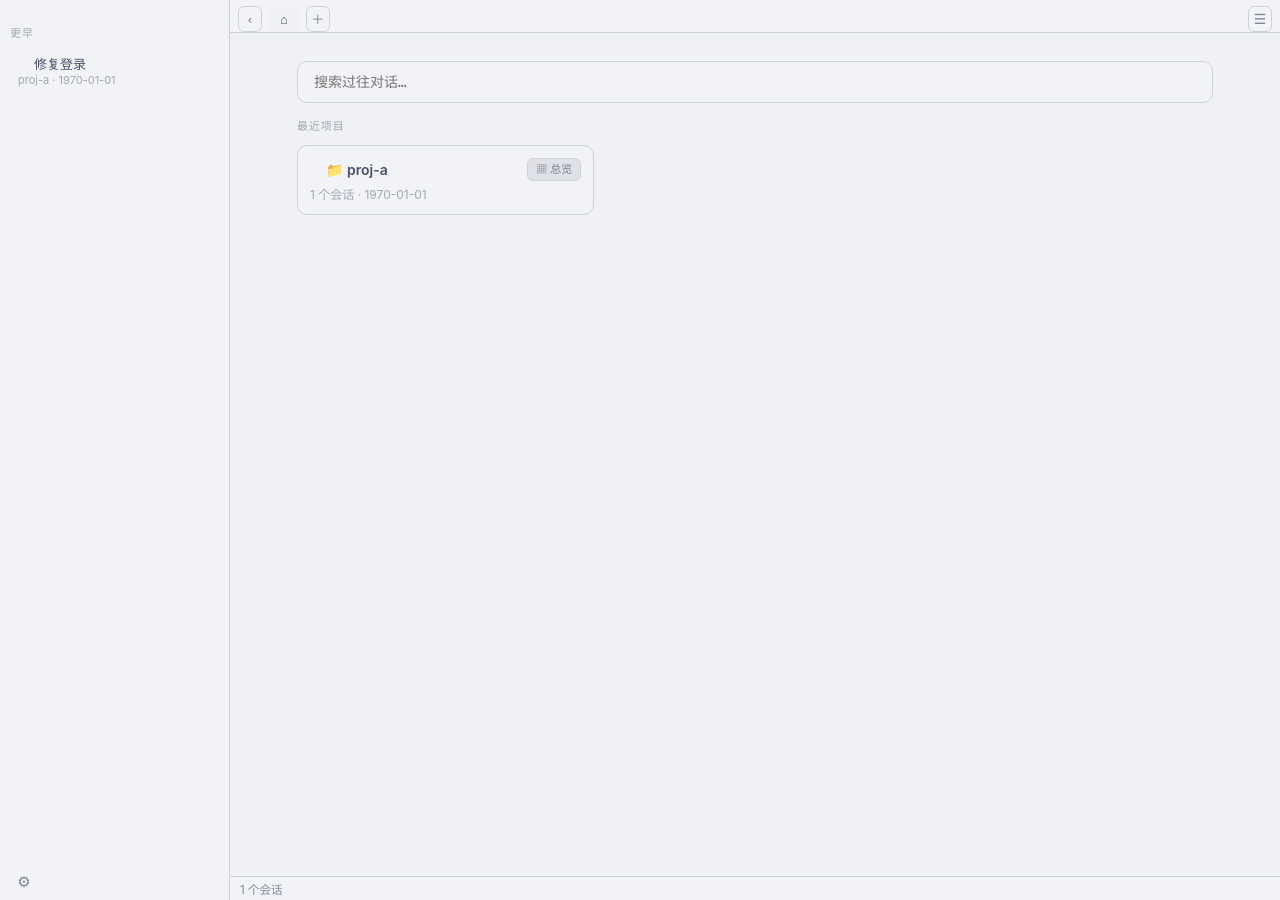
Test: Sidebar — 改名后已打开的标签标题立刻跟着变（不必等 15 秒节流刷新） › 先打开该会话的标签，再在侧栏改名：标签标题立刻变成新名字
Double-click the text "修复登录": [67, 72] box [18, 56, 116, 87]
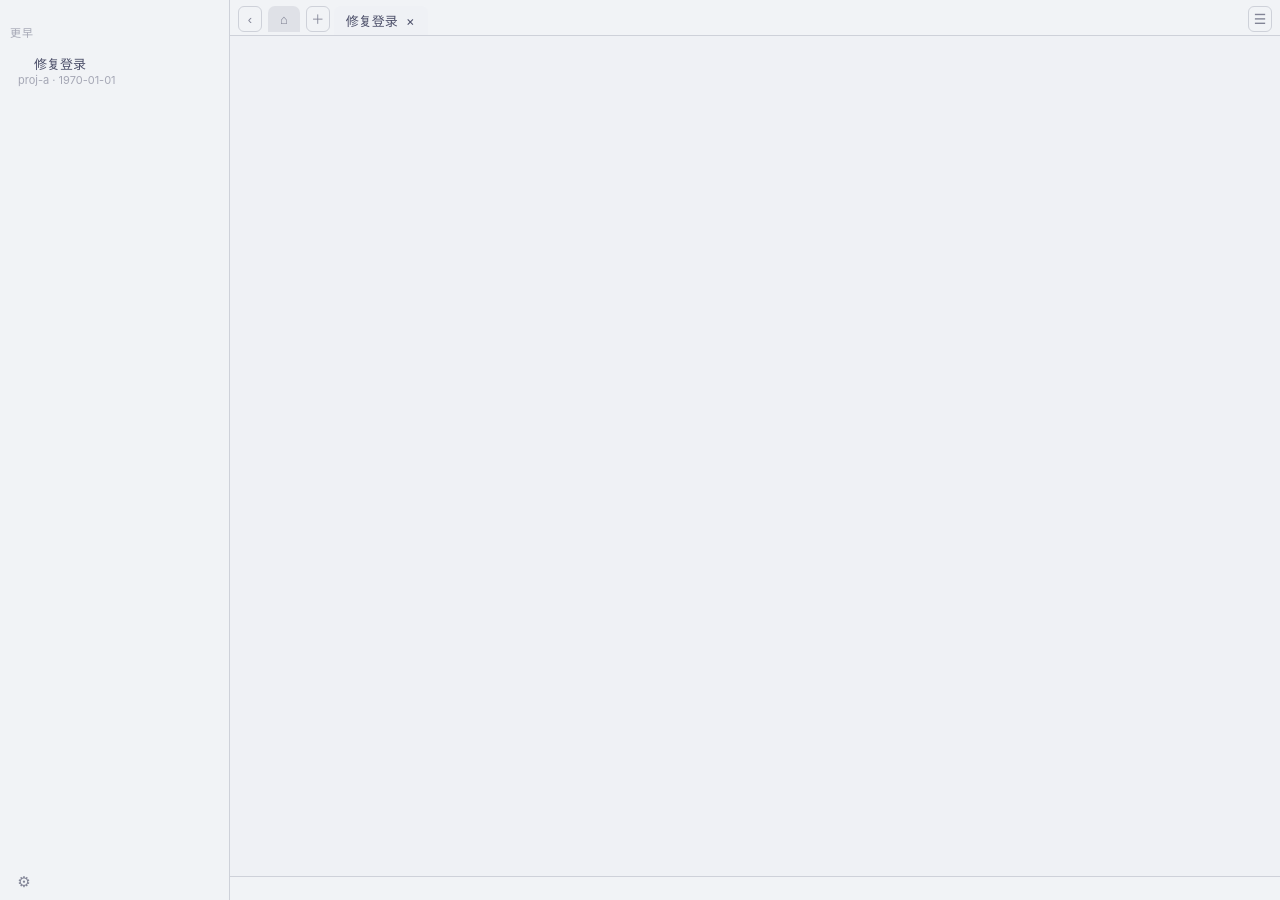
Result: the 1st text "修复登录" is shown at [346, 11, 398, 30]
Right-click the text "修复登录" below "更早": [60, 64] box [34, 54, 86, 73]
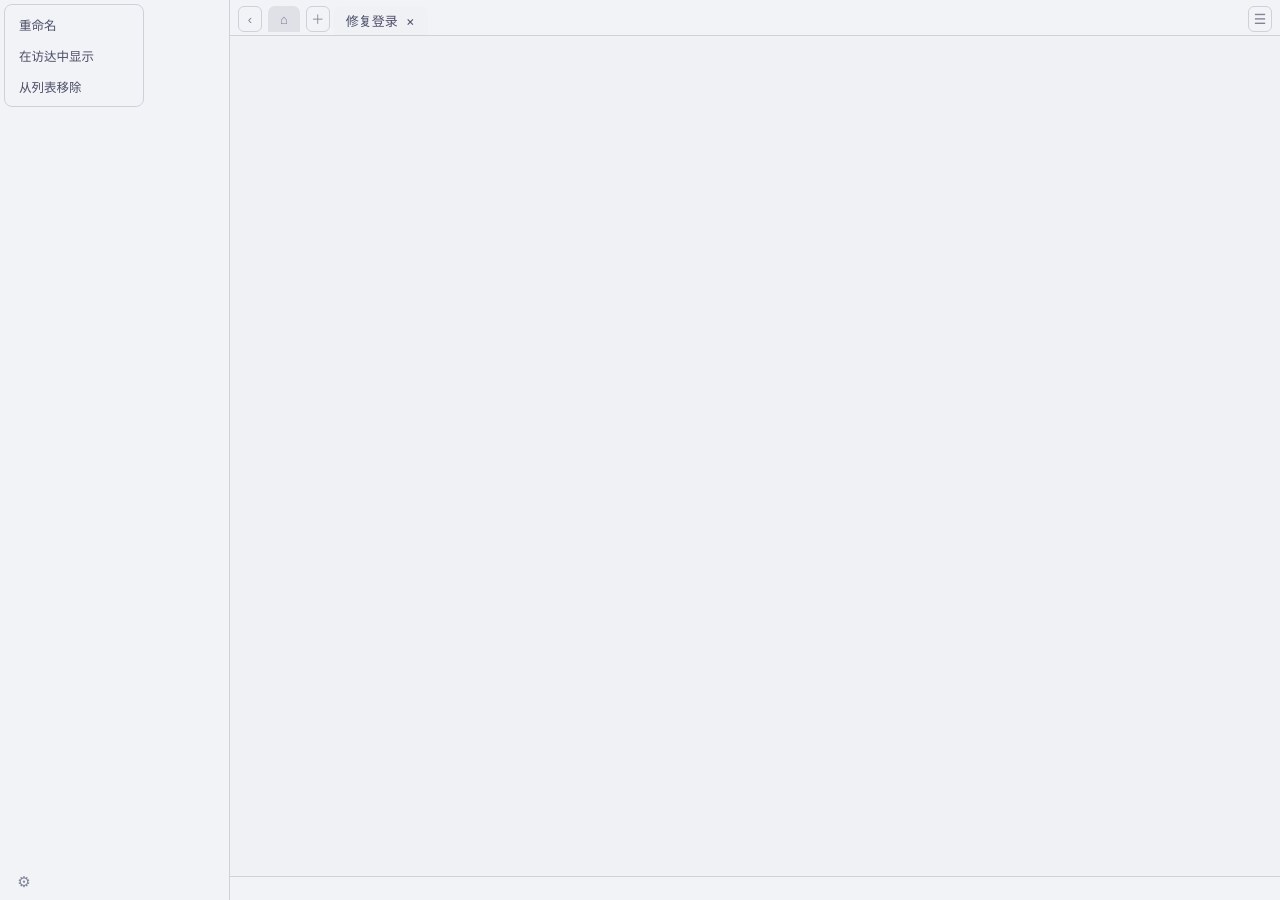
Click the menu item "重命名": [38, 26] box [19, 18, 56, 33]
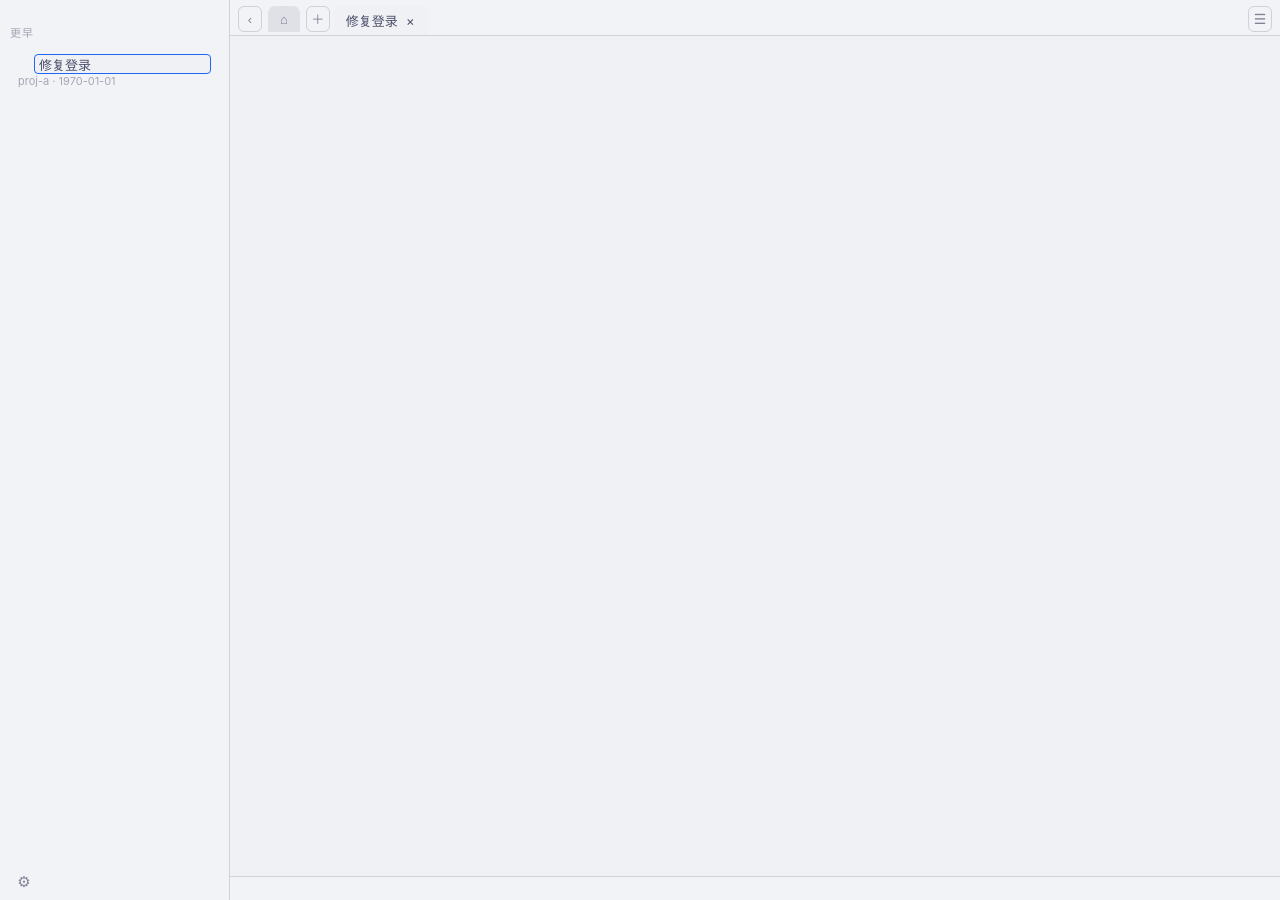
Replace the text in the field showing "修复登录" with "我的登录任务": [122, 64] box [34, 54, 211, 74]
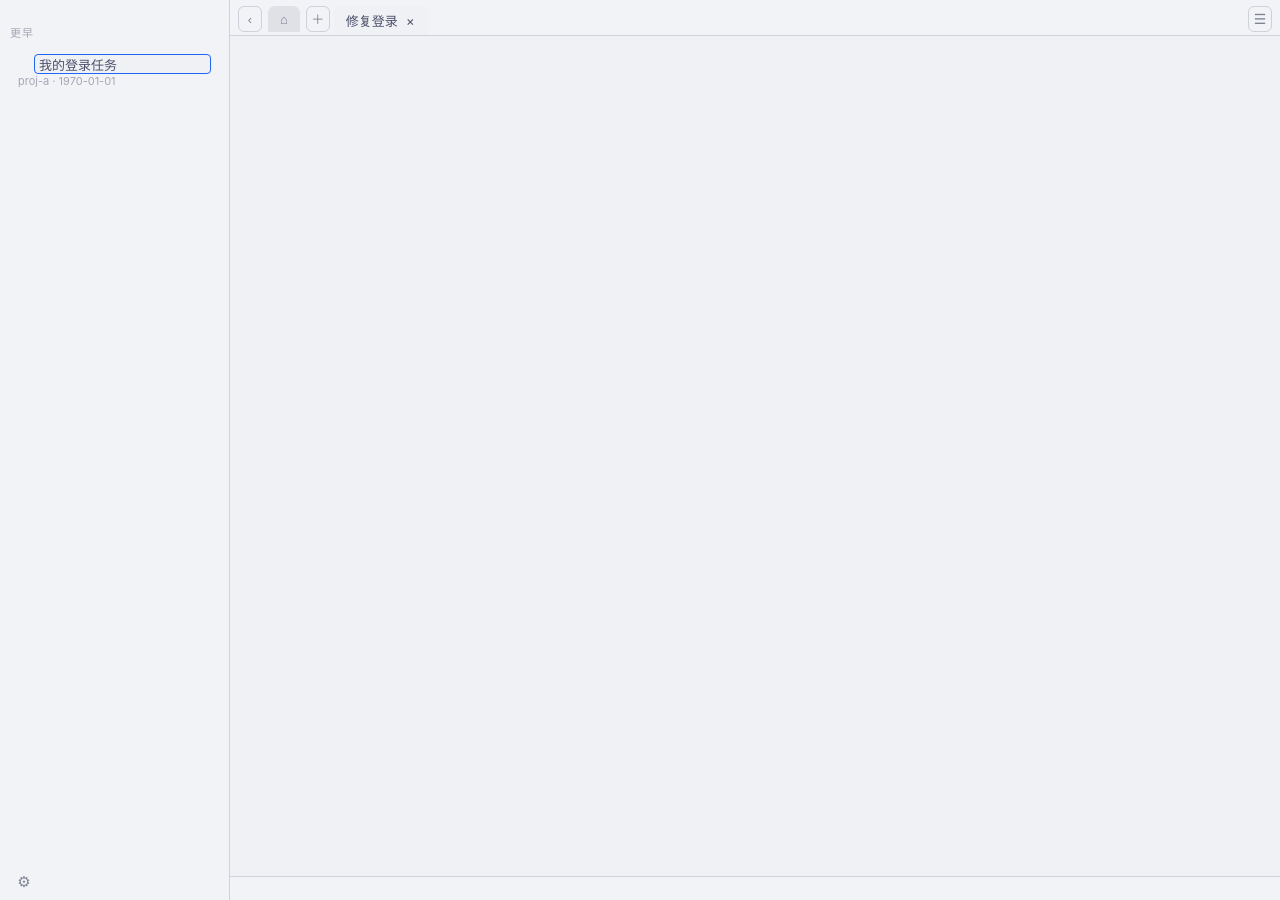
Press Enter in the field showing "修复登录", box [34, 54, 211, 74]
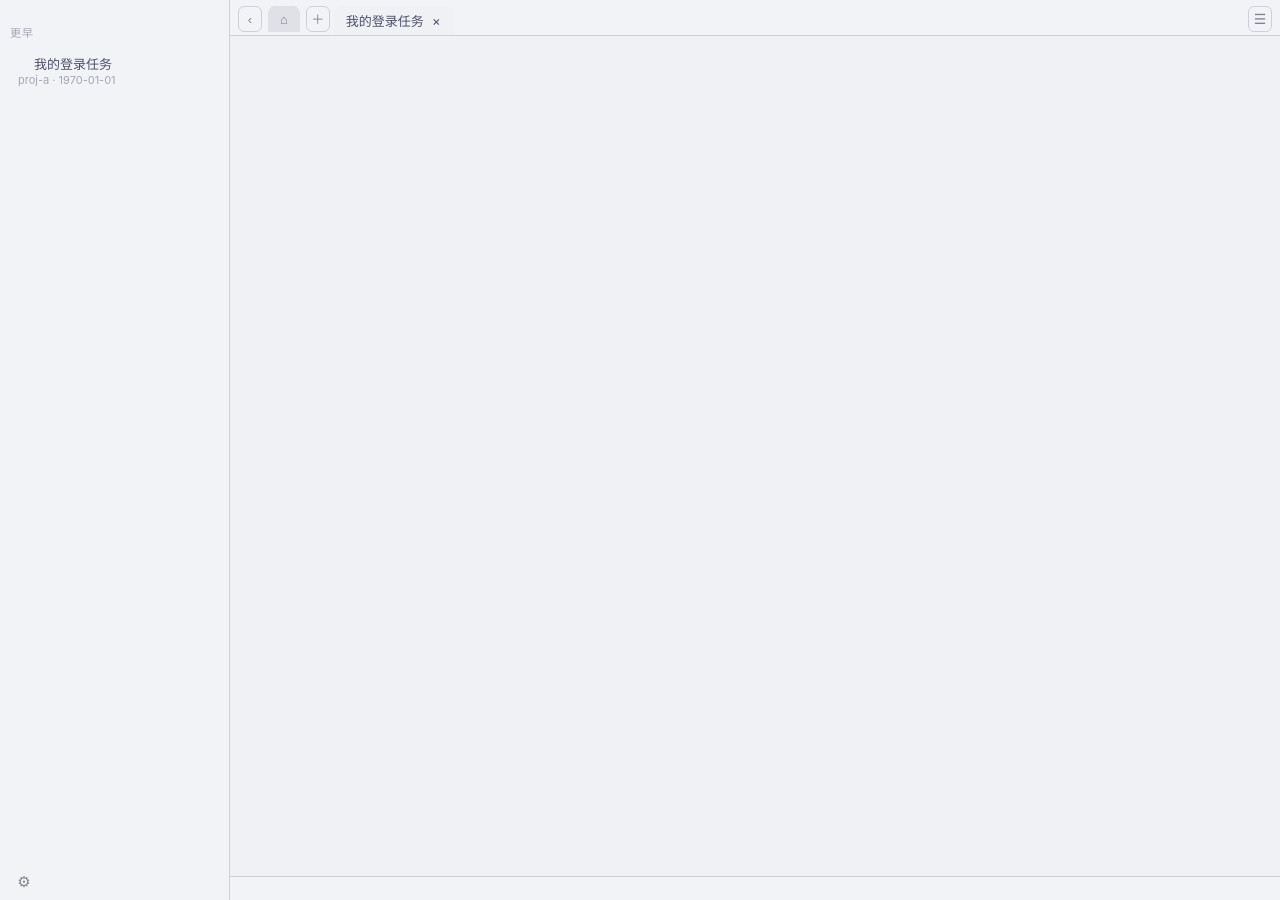
Result: the 1st text "我的登录任务" is shown at [346, 11, 424, 30]
Result: the text "修复登录" is gone
